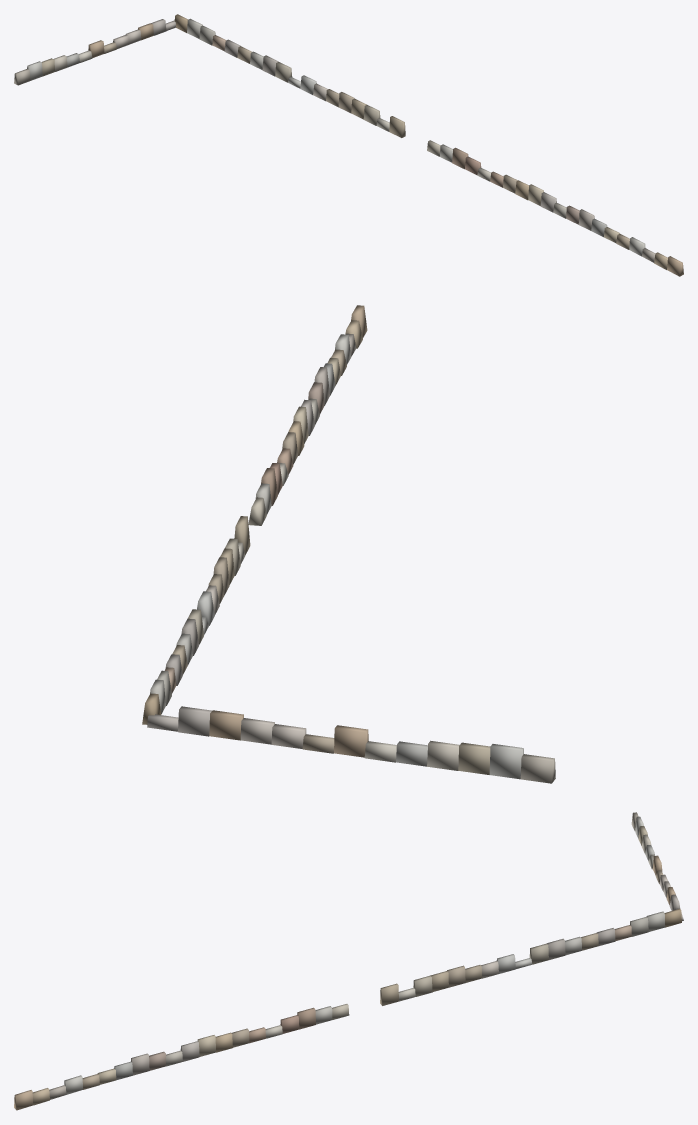
File: farm_-22_-20_collision.glb
3 views of the same model, one above another, from view 1: azimuth 30°, elevation 25°; view 2: azimuth 150°, elevation 25°; view 3: azimuth 270°, elevation 25° (orthographic). The views are drawn at different scales.
Visible parts, largest first — view 1: geometry_0; view 2: geometry_0; view 3: geometry_0.
Boxes of the visible parts, x1=… form: geometry_0: x1=14, y1=14, x2=683, y2=276; geometry_0: x1=142, y1=305, x2=555, y2=783; geometry_0: x1=14, y1=812, x2=683, y2=1110.
Size of the model in its own units: 42.61 by 9.47 by 59.08.
